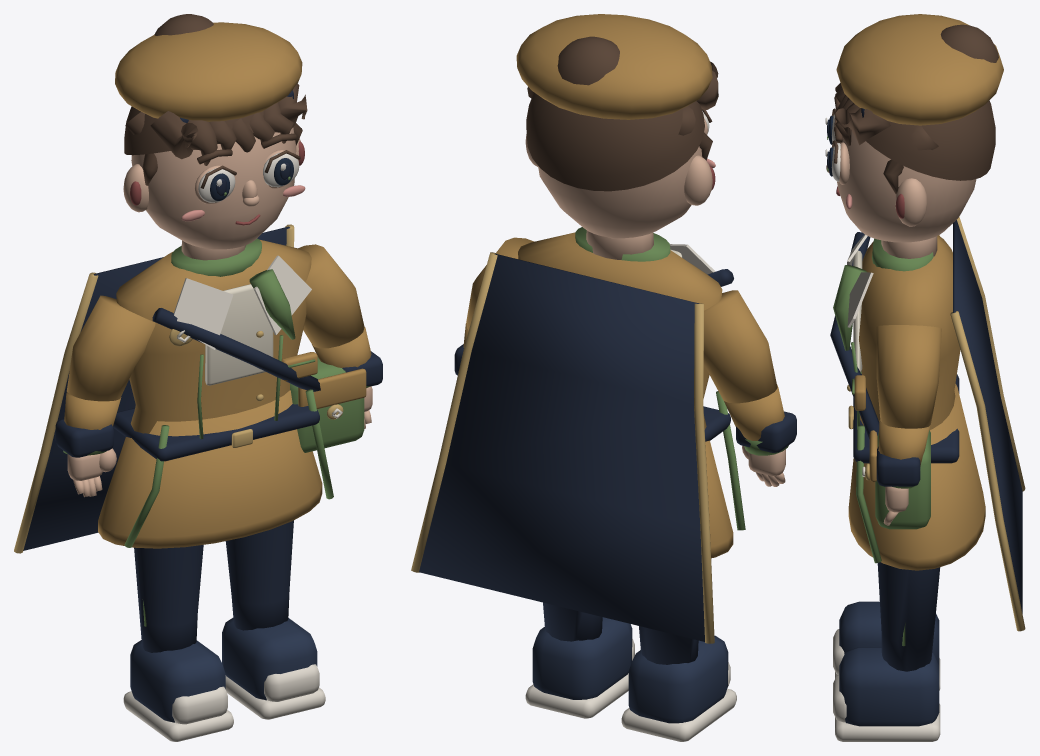
File: npc_farmtown_lieutenant_1.glb
3 renders of one model, left to right at view 1: azimuth 30°, elevation 25°; view 2: azimuth 150°, elevation 25°; view 3: azimuth 270°, elevation 25°, orthographic. The views are drawn at different scales.
Parts seen in each view (by area): view 1: figure.038; view 2: figure.038; view 3: figure.038.
Boxes of the visible parts, box(x1,y1,x2,y2) form: figure.038: box(14, 14, 382, 741); figure.038: box(411, 14, 796, 741); figure.038: box(825, 14, 1025, 741).
Size of the model in its own units: 0.8449 by 1.72 by 0.4598.
